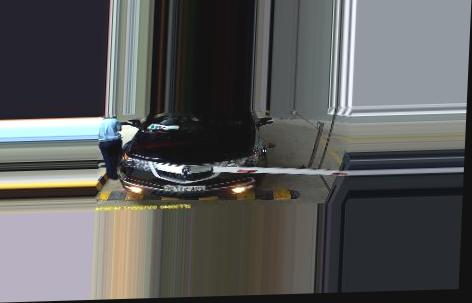License_Plate: (162, 182, 206, 195)
